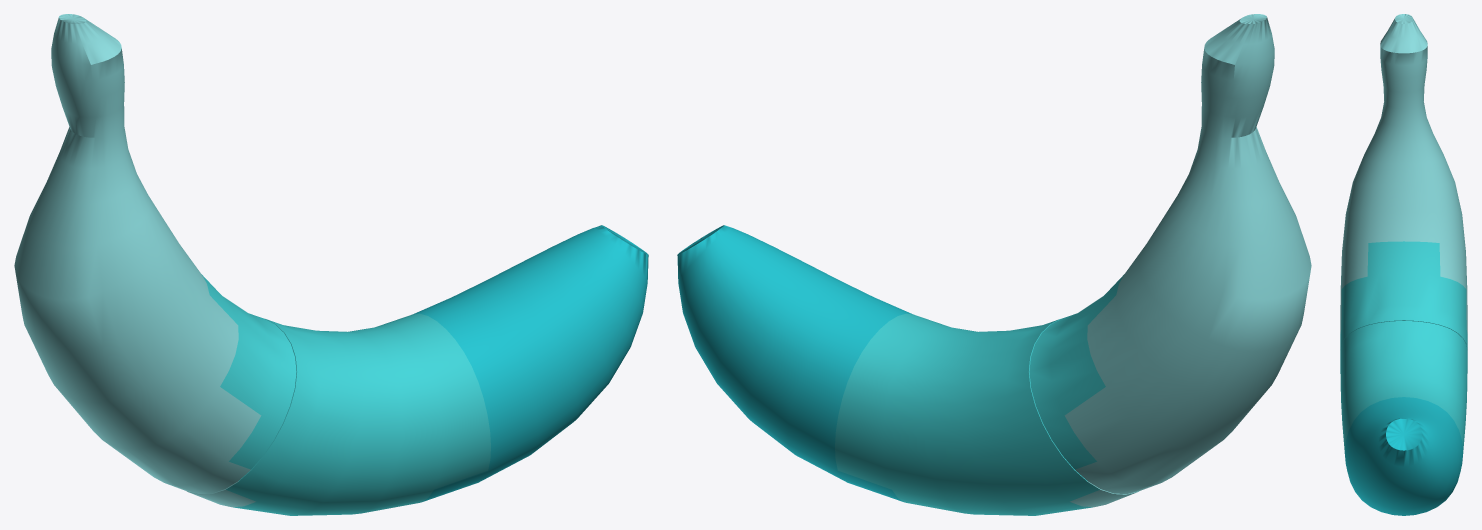
The model's file is Fruit_Banana_Sliced_Frozen.fbx.
3 renders of one model, left to right at view 1: azimuth 30°, elevation 25°; view 2: azimuth 150°, elevation 25°; view 3: azimuth 270°, elevation 25°, orthographic. The views are drawn at different scales.
Visible parts, largest first — view 1: Bottom, Top; view 2: Bottom, Top; view 3: Top, Bottom.
Part boxes in pixels (<box>): Bottom: <box>187,225,648,515</box>; Top: <box>14,14,296,493</box>; Bottom: <box>677,225,1138,515</box>; Top: <box>1029,14,1311,493</box>; Top: <box>1340,14,1467,349</box>; Bottom: <box>1340,321,1467,515</box>.
Size of the model in its own units: 263 by 227 by 70.72.
